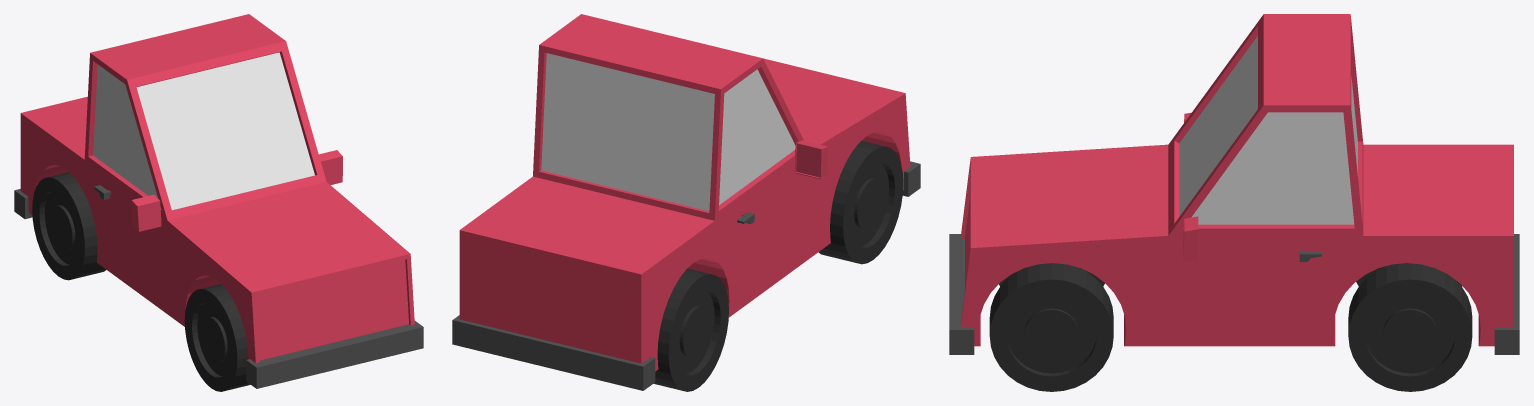
File: car01.fbx
3 renders of one model, left to right at view 1: azimuth 30°, elevation 25°; view 2: azimuth 150°, elevation 25°; view 3: azimuth 270°, elevation 25°, orthographic. The views are drawn at different scales.
Visible parts, largest first — view 1: Car body, Wheel, Cube, Cube.002, Cube.001; view 2: Car body, Wheel, Cube.001, Cube.002, Cube; view 3: Car body, Wheel, Cube, Cube.001, Cube.002.
Part boxes in pixels (x1=…): Car body: x1=20, y1=14, x2=414, y2=362; Wheel: x1=32, y1=172, x2=250, y2=391; Cube: x1=246, y1=321, x2=423, y2=388; Cube.002: x1=131, y1=150, x2=342, y2=231; Cube.001: x1=14, y1=189, x2=32, y2=219; Car body: x1=459, y1=14, x2=910, y2=371; Wheel: x1=653, y1=140, x2=903, y2=391; Cube.001: x1=452, y1=315, x2=655, y2=390; Cube.002: x1=795, y1=140, x2=828, y2=179; Cube: x1=902, y1=161, x2=920, y2=196; Car body: x1=961, y1=14, x2=1513, y2=346; Wheel: x1=989, y1=263, x2=1472, y2=391; Cube: x1=949, y1=234, x2=974, y2=354; Cube.001: x1=1494, y1=234, x2=1519, y2=354; Cube.002: x1=1183, y1=112, x2=1198, y2=260.
Bounding box in the file's own units: 258 × 289 × 528.
